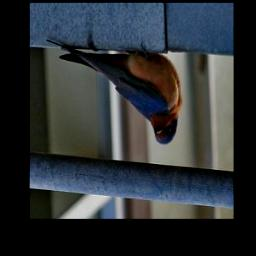Swallow: (45, 39, 183, 145)
